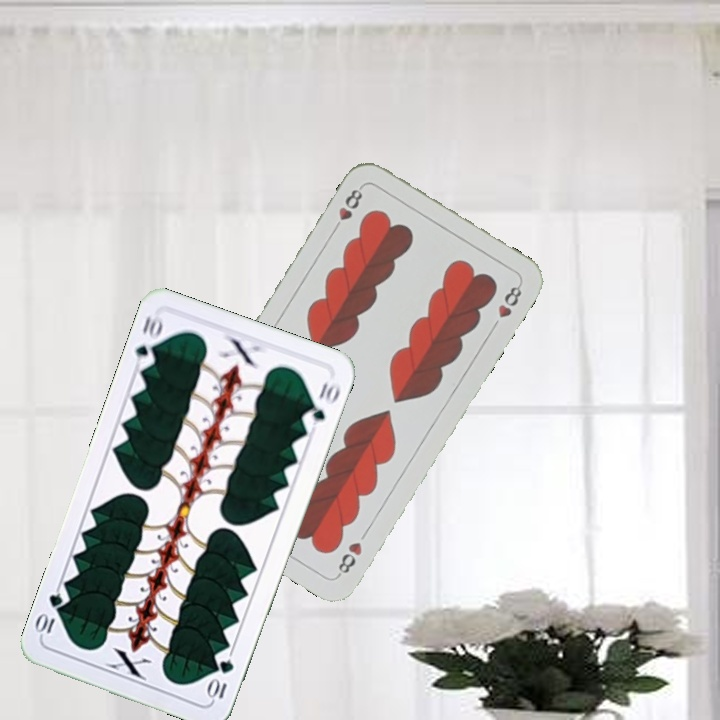G10: (131, 312, 166, 371), (204, 655, 237, 703)
H8: (328, 182, 366, 235), (333, 537, 365, 580)
